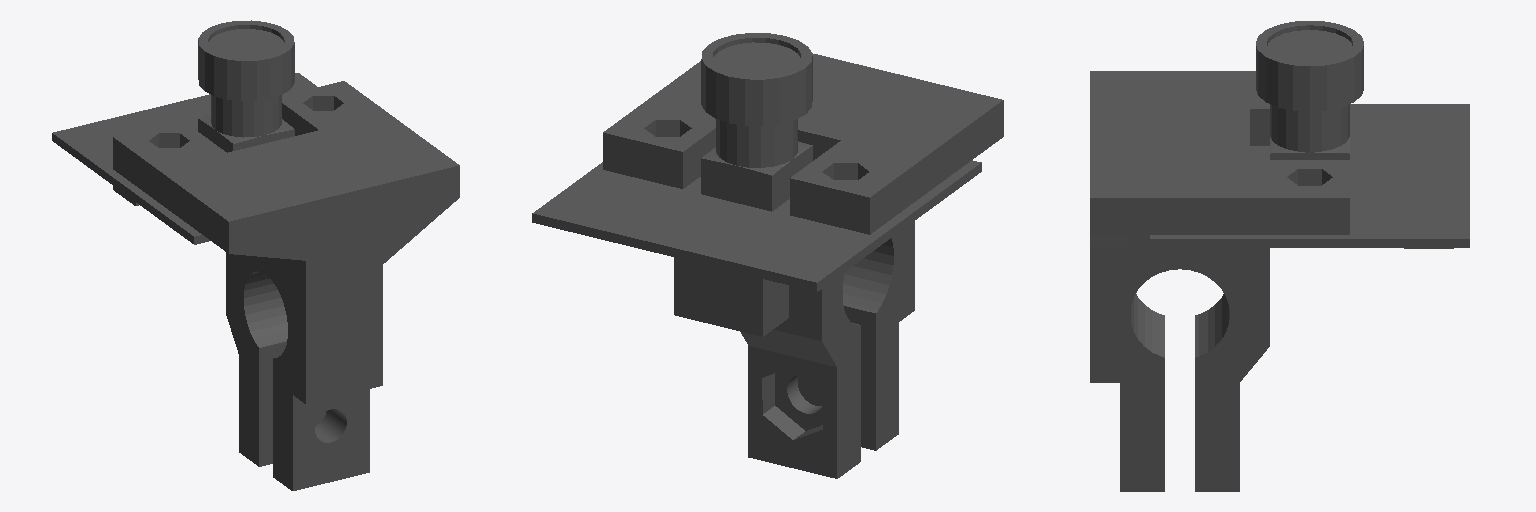
robot.urdf — Camera:
<?xml version="1.0" ?>
<robot name="Camera">

 	<link name="world"/>

    <link name="camera_link">
        <visual>
            <origin rpy="0 0 0" xyz="0.0 0.0 0.0"/>
              <geometry>
                  <mesh filename="nuro_arm/assets/meshes/camera_with_holder.stl" scale="0.001 0.001 0.001"/>
              </geometry>
              <material name="gray">
                <color rgba="0.4 0.4 0.4 1.0"/>
              </material>
        </visual>
        <collision>
              <origin rpy="0 0 0" xyz="0.0 0.0 -0.01"/>
              <geometry>
                  <box size="0.06 0.04 0.04"/>
              </geometry>
        </collision>
        <collision>
              <origin rpy="1.5708 0 0" xyz="0.0 0.028 0.0"/>
              <geometry>
                  <cylinder radius="0.016" length="0.056"/>
              </geometry>
        </collision>
        <inertial>
            <mass value="1"/>
            <inertia ixx="0.0001" ixy="0" ixz="0" iyy="0.0001" iyz="0" izz="0.00001"/>
        </inertial>
    </link>

    <joint name="world_joint" type="fixed">
        <parent link="world"/>
        <child link="camera_link"/>
        <origin rpy="0 1.5708 -1.5708" xyz="0.0 -0.013 -0.013"/>
    </joint>
</robot>

--- Render facts (derived) ---
Views: 3 orthographic renders of the robot side by side, from view 1: azimuth 30°, elevation 25°; view 2: azimuth 150°, elevation 25°; view 3: azimuth 270°, elevation 25°.
Robot: Camera — 2 links, 1 joints (1 fixed); root link world; default pose: all joints at 0.
Links seen in each view (by area): view 1: camera_link; view 2: camera_link; view 3: camera_link.
Link boxes in pixels (x1,y1,x2,y2): camera_link: (52, 20, 459, 490); camera_link: (532, 33, 1003, 478); camera_link: (1090, 21, 1469, 491).
Size in the robot's own frame: 0.032 by 0.038 by 0.0471 metres.
1 mesh visuals loaded from 1 distinct referenced files (1 binary STL).